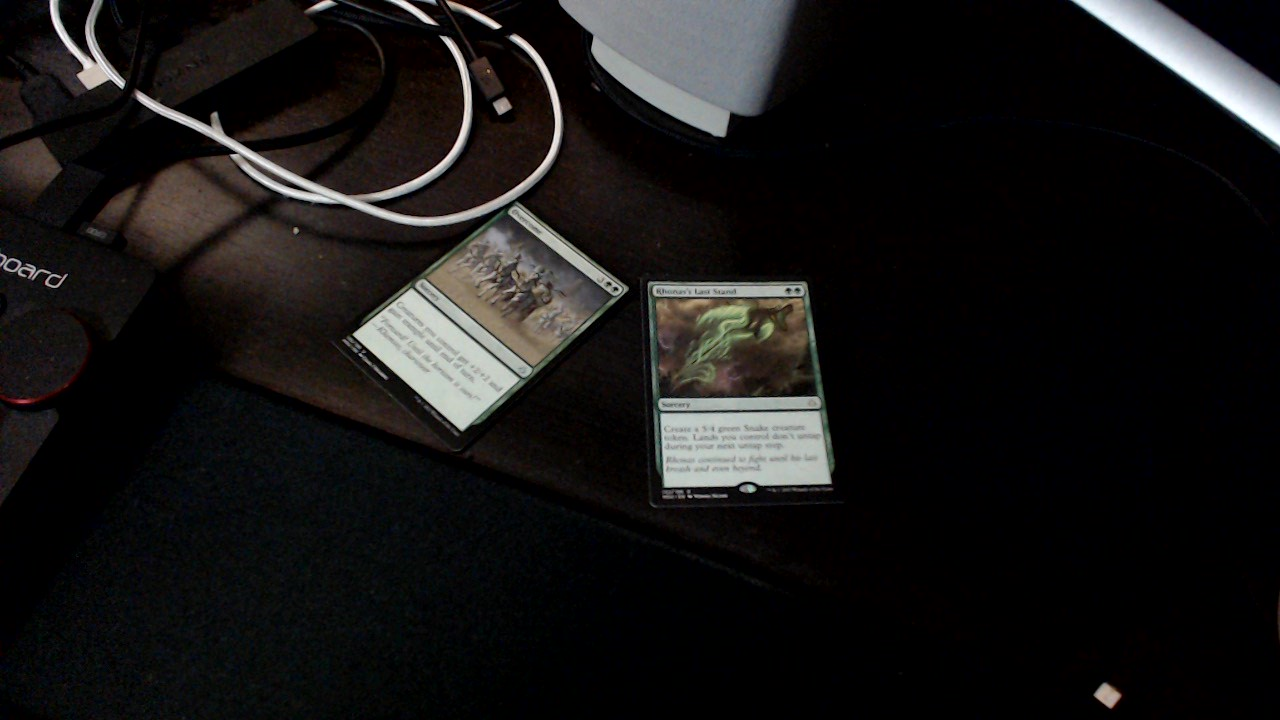MTG Card: (323, 194, 638, 449), (633, 269, 848, 517)
